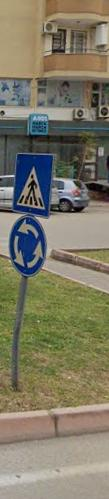crossroads: (7, 215, 48, 275)
